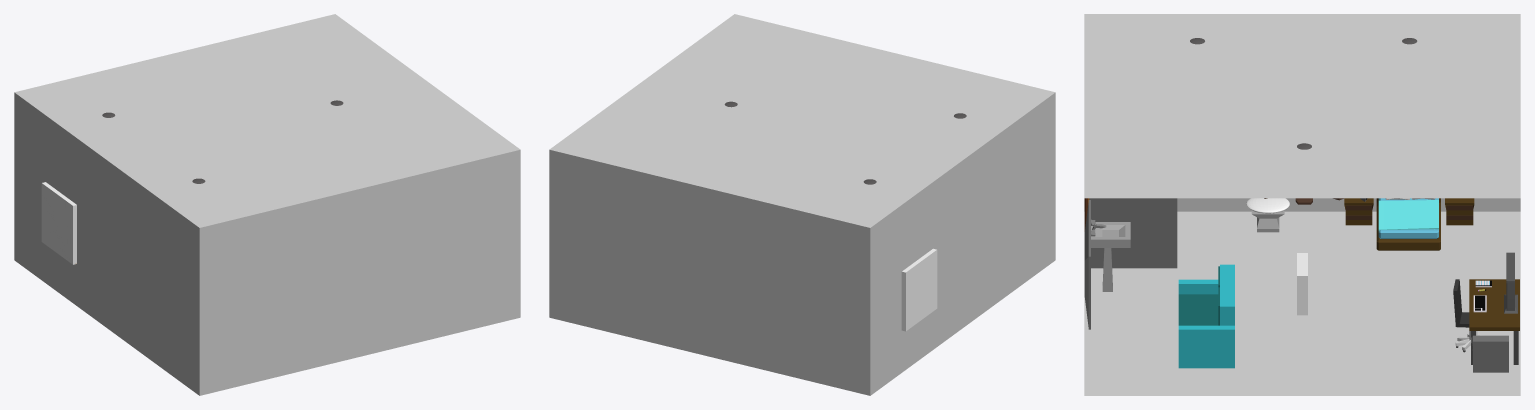
File: Room.fbx
3 views of the same model, side by side, from view 1: azimuth 30°, elevation 25°; view 2: azimuth 150°, elevation 25°; view 3: azimuth 270°, elevation 25° (orthographic). The views are drawn at different scales.
Parts seen in each view (by area): view 1: Room, CTRL_Hole.003; view 2: Room, CTRL_Hole.003; view 3: Room, Couch, Shower, Desk-Top, Covers, Bed, Sink, Computer, Toilet, NightStand_Base.001, NightStand_Base, TV (+3 smaller).
Boxes of the visible parts, left/top/right/bottom form: Room: left=14, top=14, right=520, bottom=395; CTRL_Hole.003: left=41, top=182, right=76, bottom=264; Room: left=549, top=14, right=1055, bottom=395; CTRL_Hole.003: left=901, top=248, right=937, bottom=331; Room: left=1084, top=14, right=1520, bottom=395; Couch: left=1178, top=264, right=1234, bottom=368; Shower: left=1089, top=198, right=1177, bottom=268; Desk-Top: left=1469, top=279, right=1519, bottom=330; Covers: left=1378, top=200, right=1438, bottom=230; Bed: left=1376, top=198, right=1440, bottom=250; Sink: left=1091, top=219, right=1130, bottom=291; Computer: left=1471, top=335, right=1508, bottom=372; Toilet: left=1246, top=198, right=1289, bottom=232; NightStand_Base.001: left=1445, top=198, right=1474, bottom=225; NightStand_Base: left=1344, top=198, right=1373, bottom=225; TV: left=1084, top=200, right=1090, bottom=329.
Bounding box in the file's own units: 2025 × 1008 × 2000.
